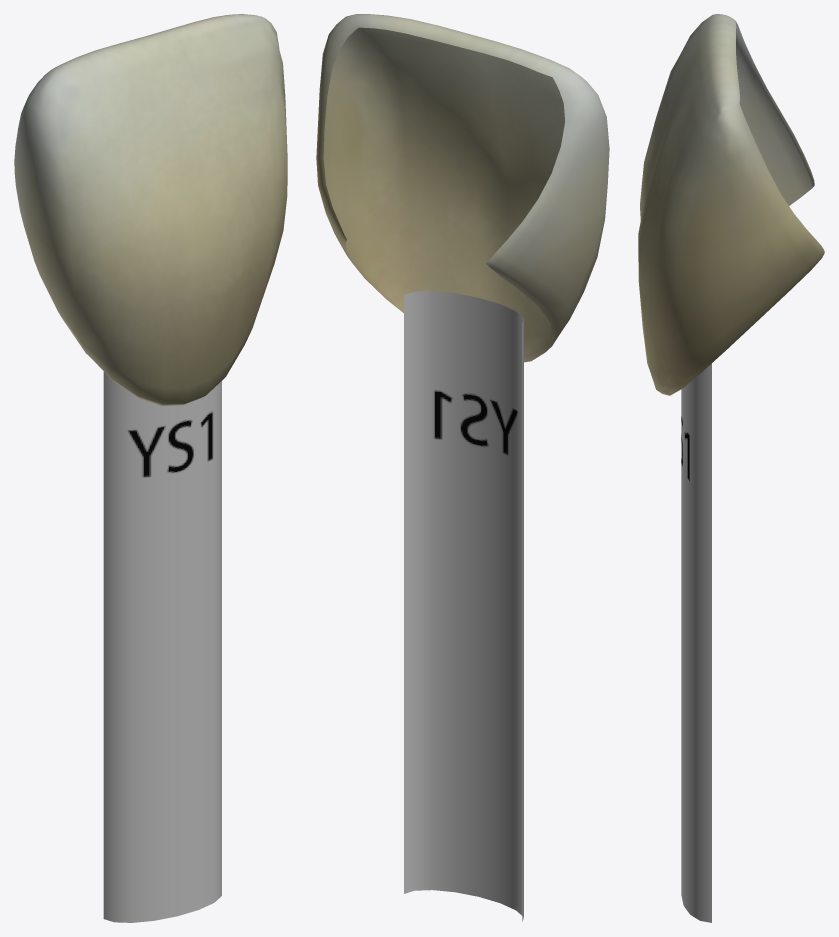
3 renders of one model, left to right at view 1: azimuth 30°, elevation 25°; view 2: azimuth 150°, elevation 25°; view 3: azimuth 270°, elevation 25°, orthographic. The views are drawn at different scales.
Parts seen in each view (by area): view 1: Tab; view 2: Tab; view 3: Tab.
Part boxes in pixels (x1=…): Tab: x1=14, y1=14, x2=287, y2=922; Tab: x1=316, y1=14, x2=609, y2=921; Tab: x1=638, y1=14, x2=824, y2=922.
Bounding box in the file's own units: 0.00859 × 0.0273 × 0.00547.
Materials: 1 (1 with a texture image).
